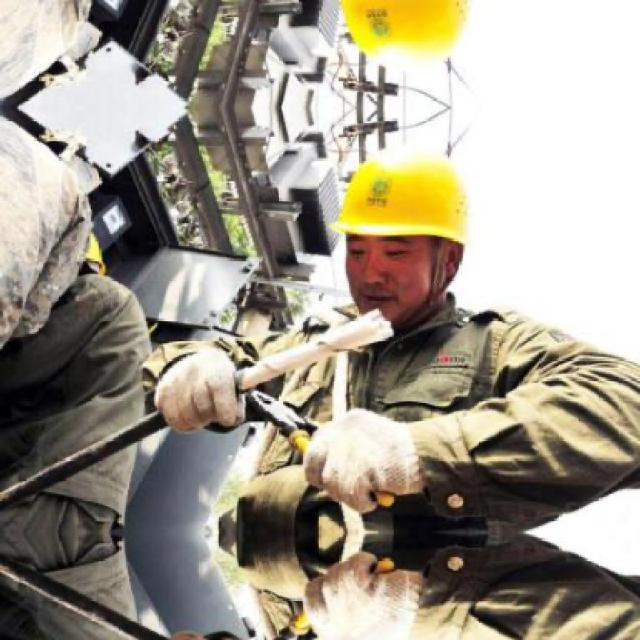con casco: (310, 164, 511, 363)
